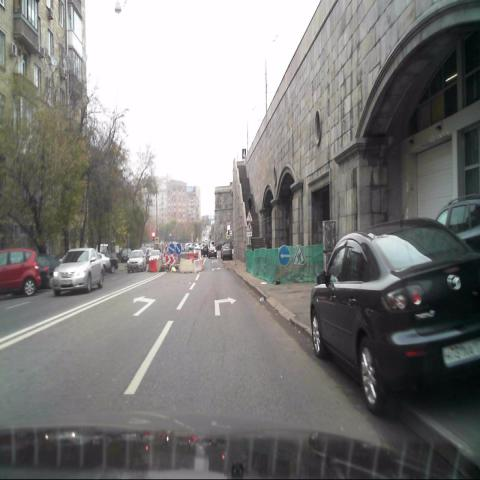1_20_2: (245, 210, 253, 221)
1_25: (293, 245, 306, 266)
4_1_2_2: (278, 245, 290, 266)
4_2_1: (174, 241, 182, 254), (168, 243, 175, 254)
